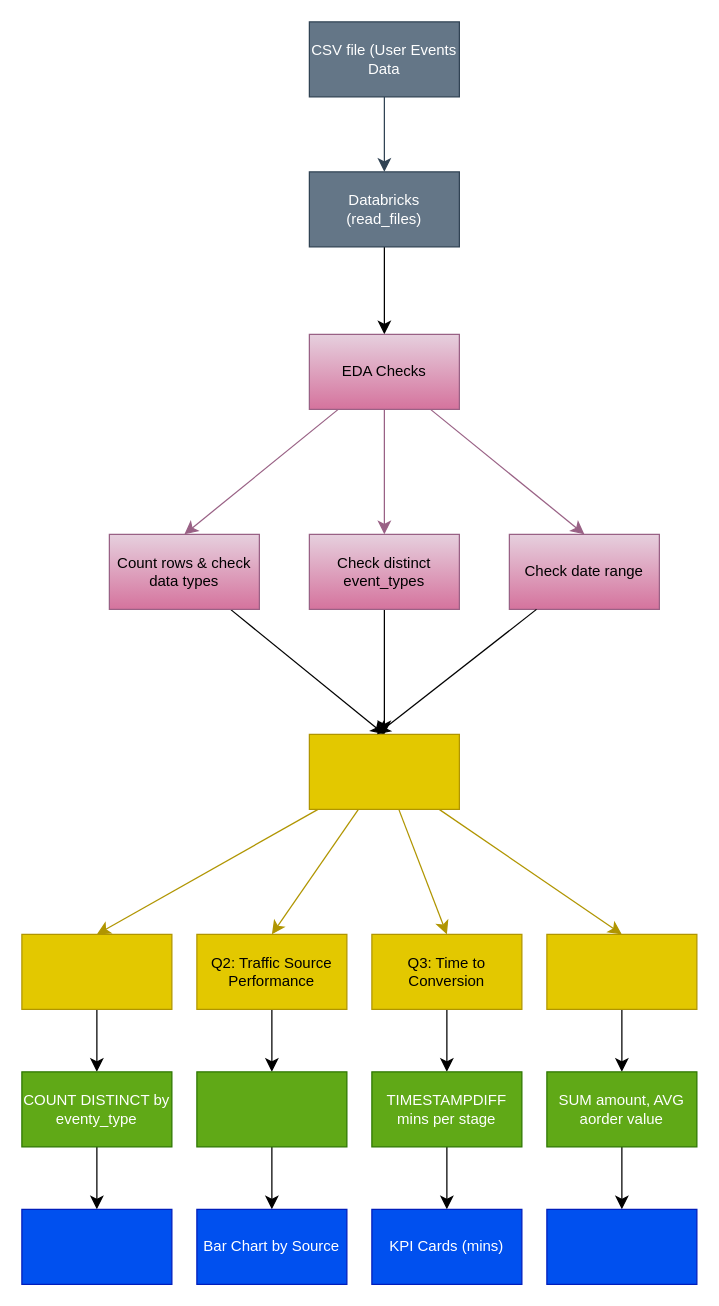
Some shapes in this 719 by 1306 pixel diagram are drawn without their labels. Each missing label, with the centre of its shape:
Analysis Questions: the point at 383,771
Funnel Chart + Drop-off %: the point at 96,1246
GROUP BY traffic_source: the point at 271,1109
Q1: Funnel Drop-off: the point at 96,971
Q4: Revenue Analysis: the point at 621,971
Revenue KPI Cards: the point at 621,1246
